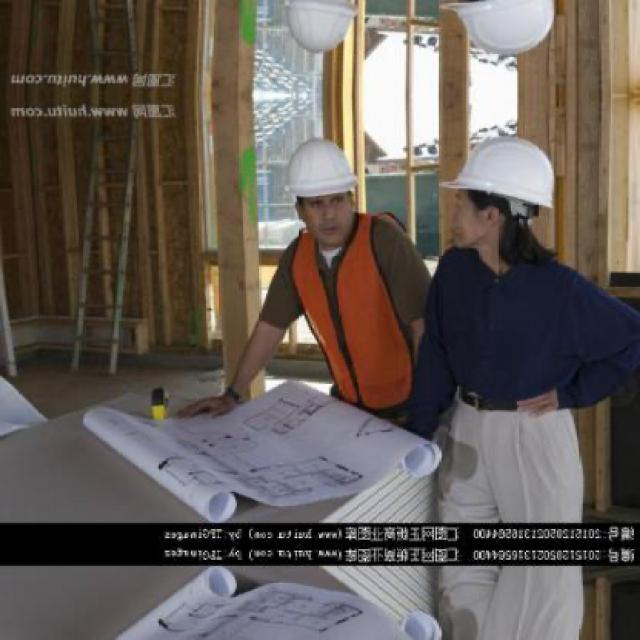helmet: (443, 124, 560, 262), (278, 130, 360, 248), (442, 0, 561, 69), (278, 0, 362, 63)
